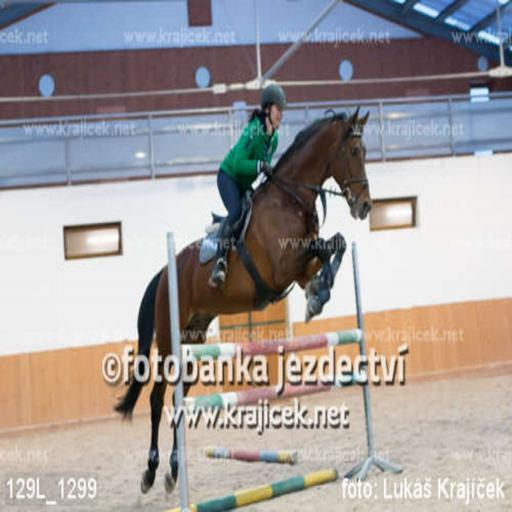Horse: (112, 106, 372, 492)
